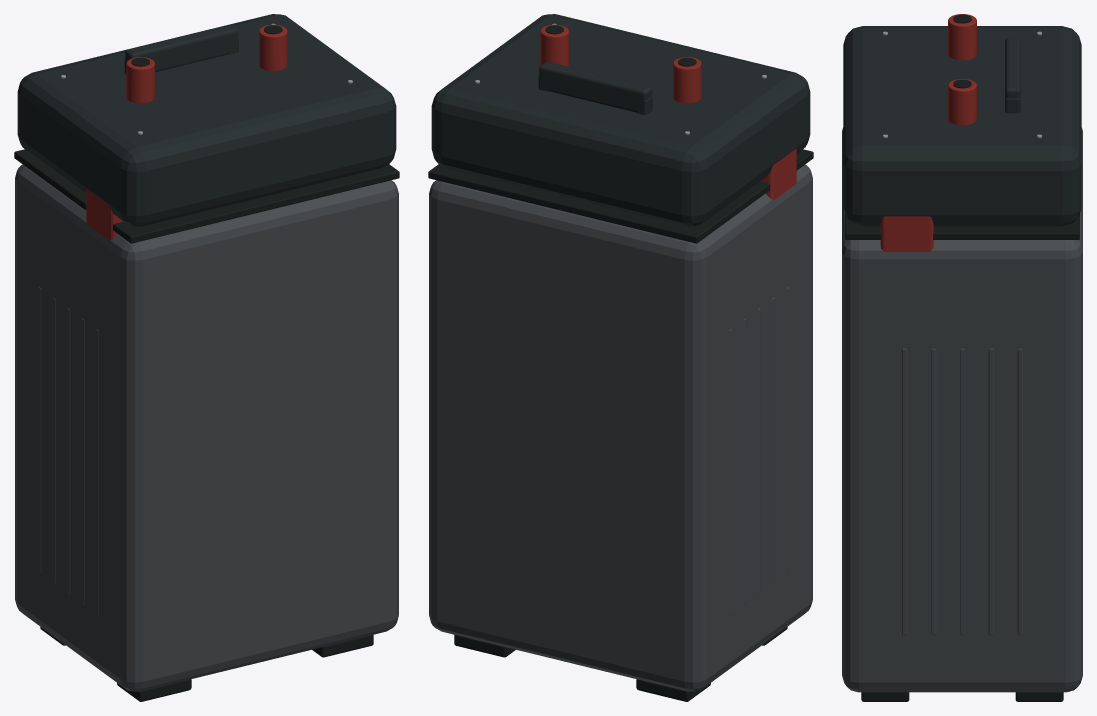
Rendered from filter-fluval-407.glb.
3 views of the same model, side by side, from view 1: azimuth 30°, elevation 25°; view 2: azimuth 150°, elevation 25°; view 3: azimuth 270°, elevation 25° (orthographic).
Visible parts, largest first — view 1: Fluval 407 Canister Filter · original housing; view 2: Fluval 407 Canister Filter · original housing; view 3: Fluval 407 Canister Filter · original housing.
Part boxes in pixels (bbox=[...]): Fluval 407 Canister Filter · original housing: bbox=[14, 14, 399, 701]; Fluval 407 Canister Filter · original housing: bbox=[428, 14, 813, 701]; Fluval 407 Canister Filter · original housing: bbox=[842, 14, 1082, 701].
Size of the model in its own units: 0.24 by 0.49 by 0.18.
